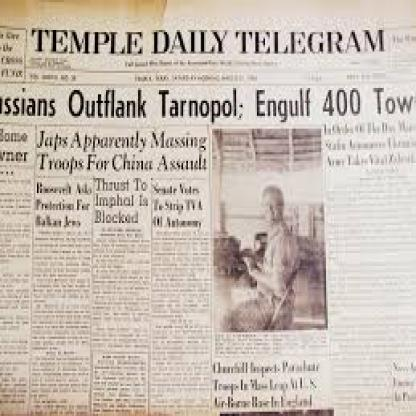paper: (1, 6, 414, 414)
